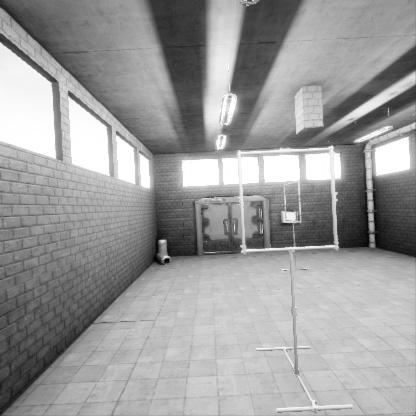gate: (239, 169, 340, 270), (283, 194, 301, 237)
